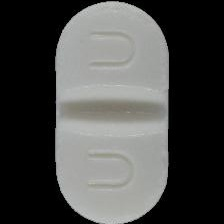52125-939: (0, 0, 224, 224)
